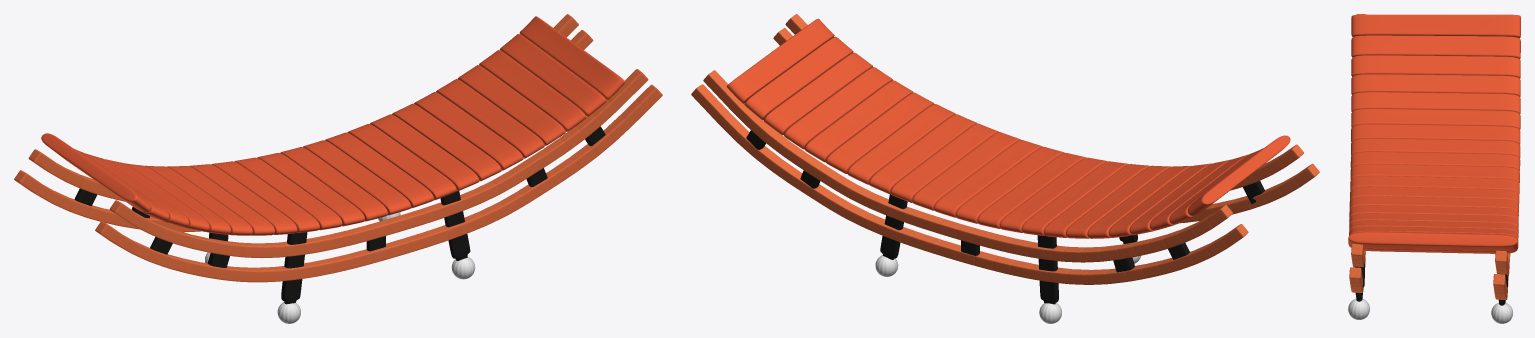
File: lakeBrigde.fbx
3 views of the same model, side by side, from view 1: azimuth 30°, elevation 25°; view 2: azimuth 150°, elevation 25°; view 3: azimuth 270°, elevation 25° (orthographic). The views are drawn at different scales.
Parts seen in each view (by area): view 1: bridge, left, right.001, lights; view 2: bridge, left, right.001, lights; view 3: bridge, left, lights, right.001.
Boxes of the visible parts, x1,y1,x2,y2 form: bridge: (41,16,625,235); left: (14,14,662,282); right.001: (74,126,605,304); lights: (205,212,475,323); bridge: (726,18,1290,238); left: (691,14,1319,284); right.001: (746,130,1264,304); lights: (875,255,1140,323); bridge: (1348,14,1520,253); left: (1349,14,1510,299); lights: (1348,298,1512,323); right.001: (1355,262,1507,305).
Size of the model in its own units: 1074 by 316 by 301.
